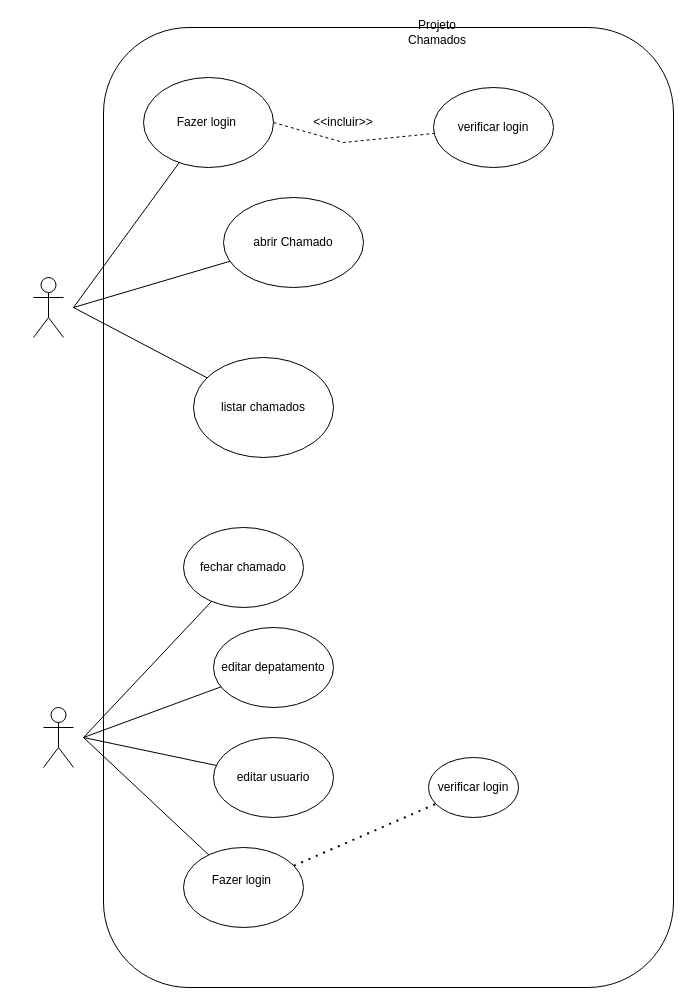
Image size: 691x1005. Some labels were removed from this diagram. Here are the shapes that lost their labels. From the top down, the centre of each, then its label:
(48,307): Funcionario
(58,737): Administrador
